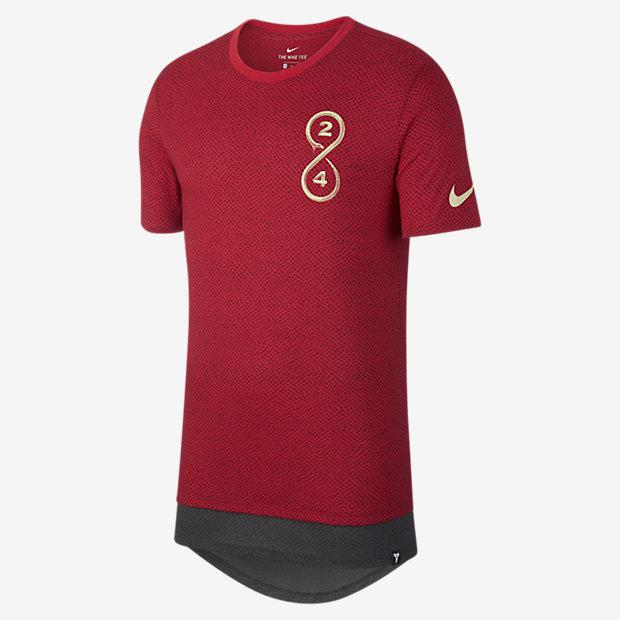teeshirt: (115, 14, 526, 609)
